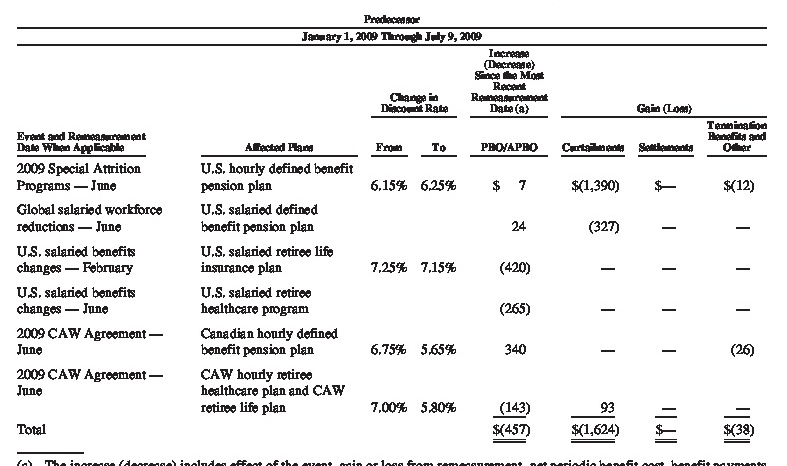table: (0, 0, 787, 466)
